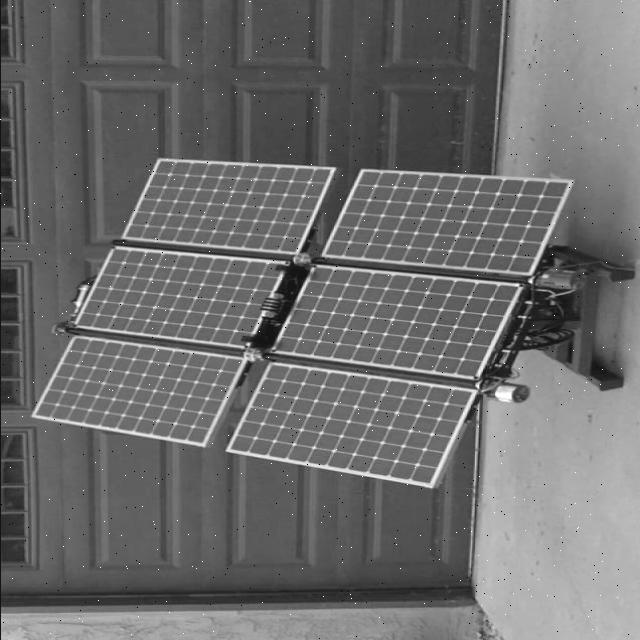Normal Solar Panel: (229, 364, 477, 487), (274, 266, 522, 380), (324, 172, 572, 276), (32, 338, 242, 446), (74, 248, 280, 348), (122, 161, 332, 255)
